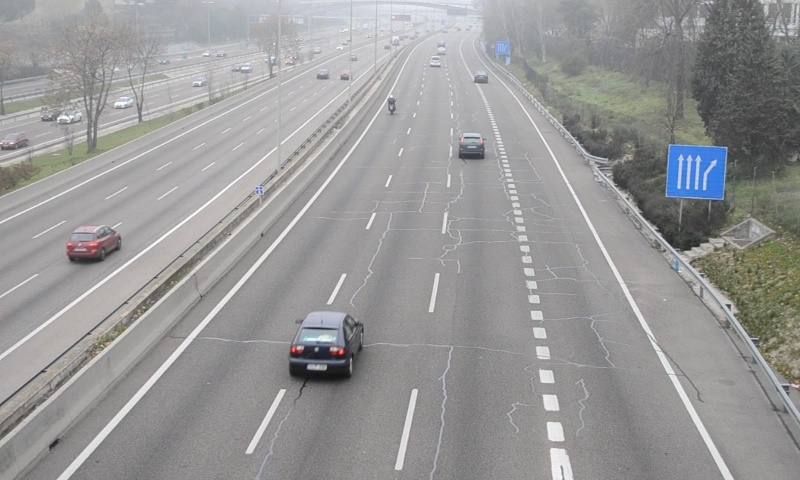car: (287, 312, 364, 380), (458, 133, 485, 160), (473, 71, 488, 84)
motorcycle: (386, 94, 397, 117)
